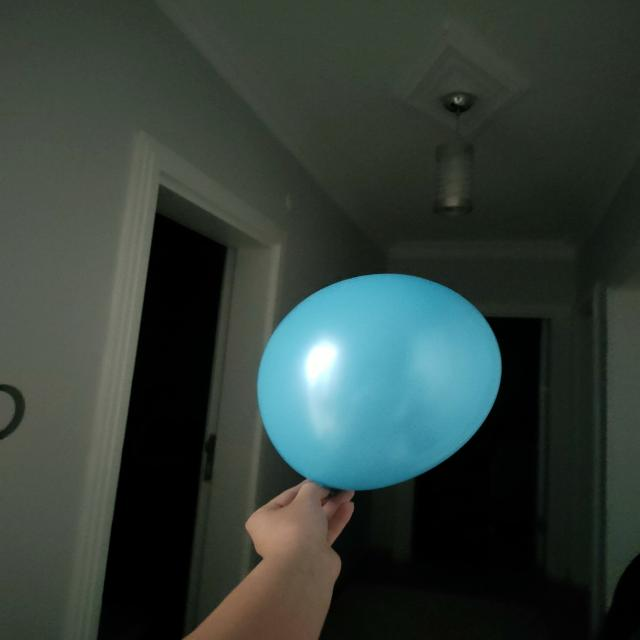blue: (262, 275, 501, 489)
